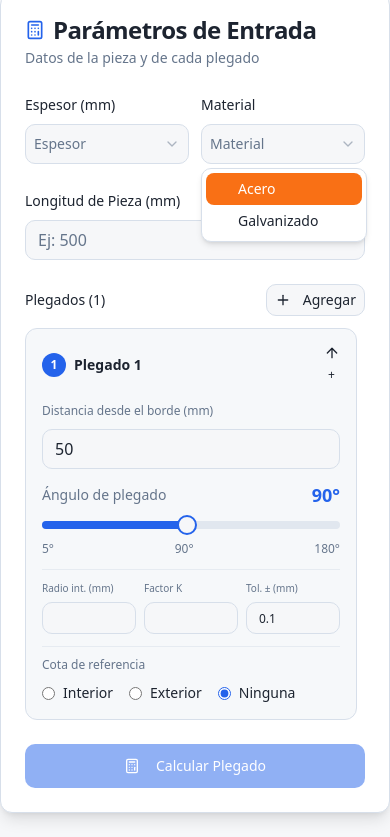
Test: BendCalculator: procedencia manual de R/K › cambiar material no convierte valores aprobados antiguos en manuales
Earlier steps of the test are not shown.
Click the option "Galvanizado" at (278, 220), box [238,211,318,230]
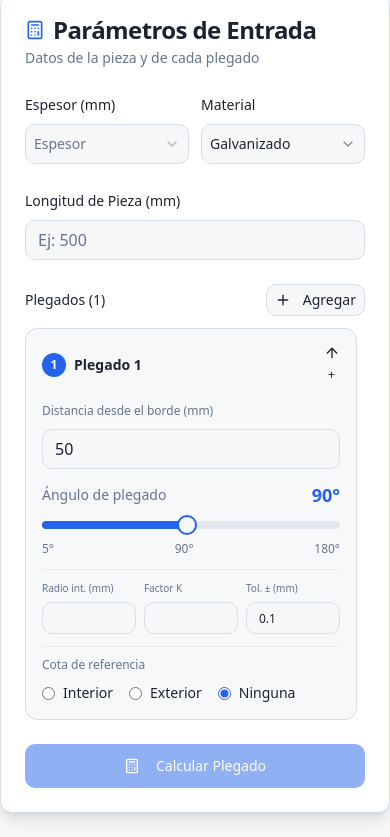
Click the dropdown labelled "Espesor" at (107, 144), box [25,124,189,164]
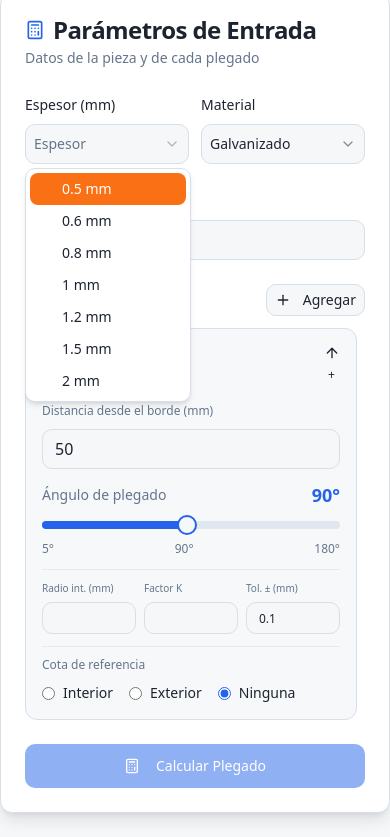
Click the option "1 mm" at (81, 284), box [62,275,100,294]
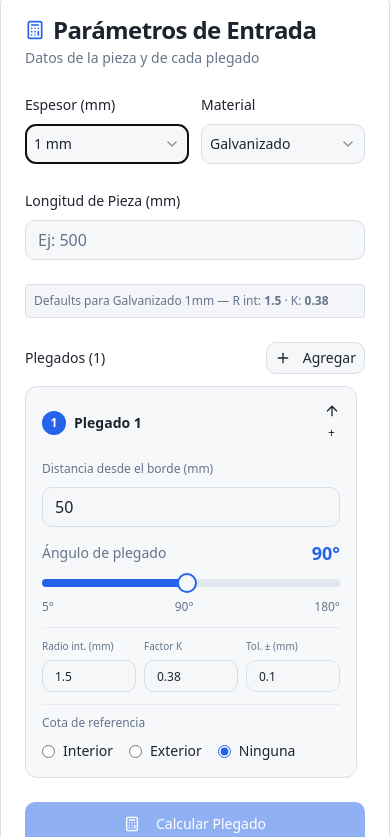
Type "100" into the number field with placeholder "Ej: 500" at (195, 240), box [25,220,365,260]
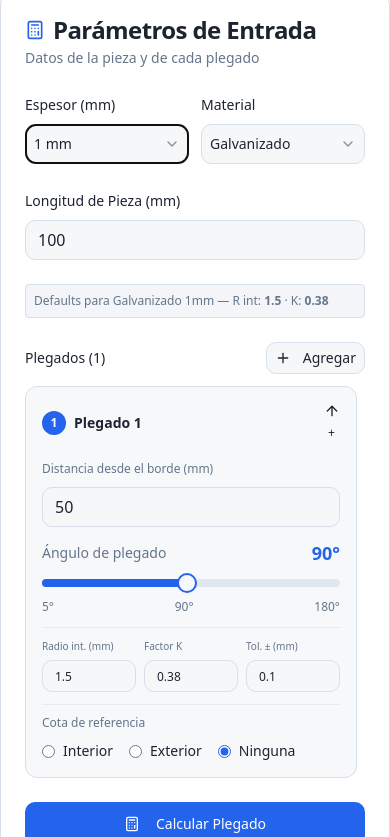
Click the dropdown named "Material" at (283, 144), box [201,124,365,164]
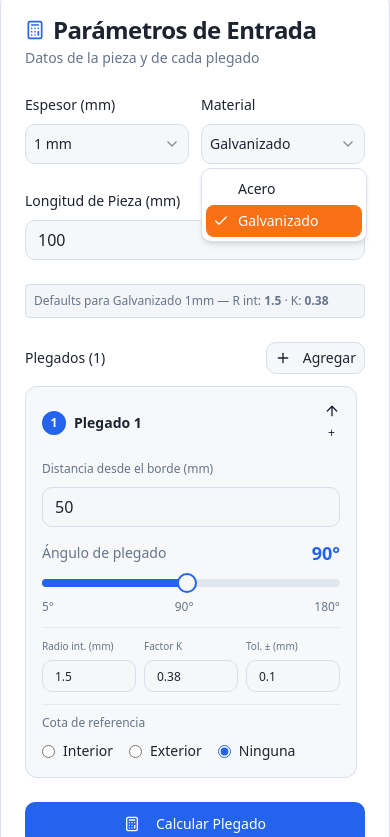
Click the option "Acero" at (257, 188), box [238,179,276,198]
(page scrolled)
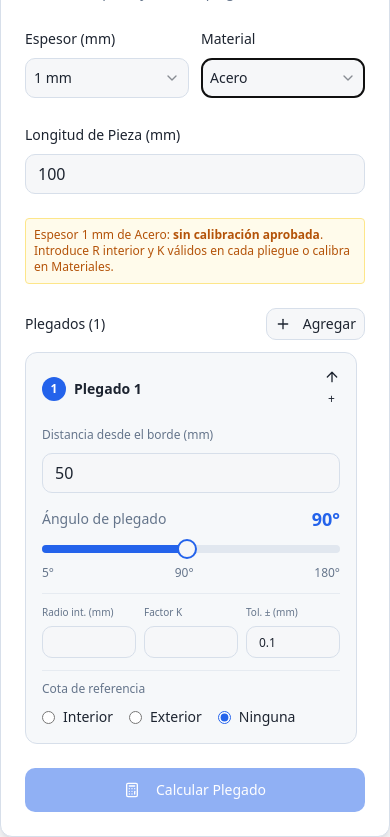
Now the button "Calcular Plegado" is disabled, box [25,768,365,812]
